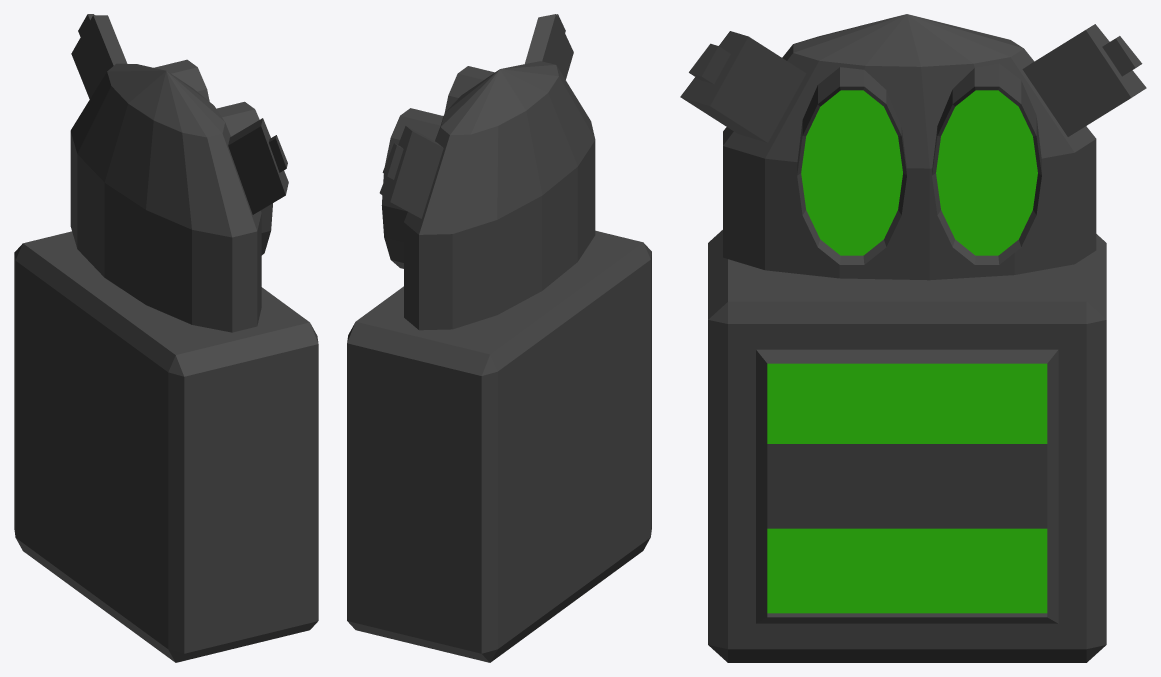
The model's file is Robot.gltf.
The picture shows the model from 3 angles, left to right: view 1: azimuth 30°, elevation 25°; view 2: azimuth 150°, elevation 25°; view 3: azimuth 270°, elevation 25°; orthographic projection. The views are drawn at different scales.
Parts seen in each view (by area): view 1: Cube, Sphere; view 2: Cube, Sphere; view 3: Cube, Sphere, Cube.001, Cylinder.001, Cube.002.
Part boxes in pixels (box(x1,y1,x2,y2)): Cube: box(14, 231, 318, 662); Sphere: box(70, 14, 288, 332); Cube: box(347, 230, 651, 662); Sphere: box(379, 14, 595, 330); Cube: box(708, 230, 1106, 662); Sphere: box(680, 14, 1146, 280); Cube.001: box(767, 363, 1047, 613); Cylinder.001: box(801, 90, 1037, 255); Cube.002: box(767, 444, 1047, 528).
Size of the model in its own units: 1.06 by 3.38 by 2.34.
